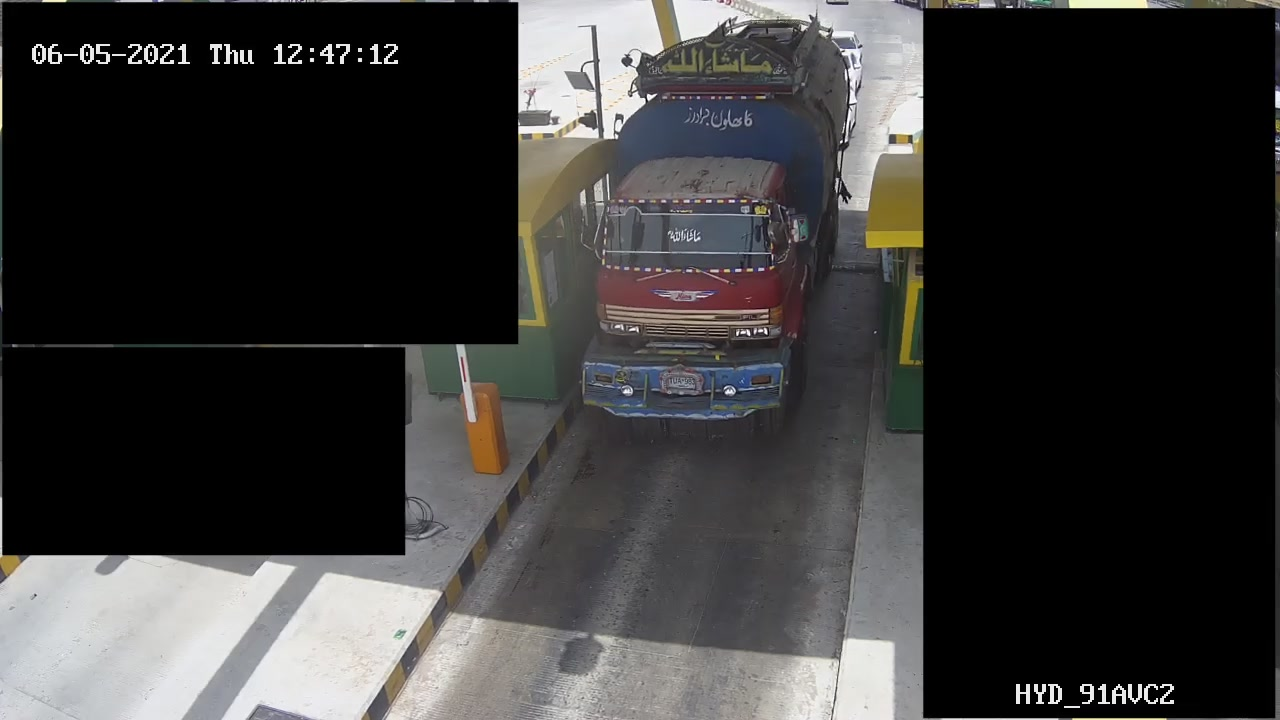F5: (588, 18, 852, 438)
